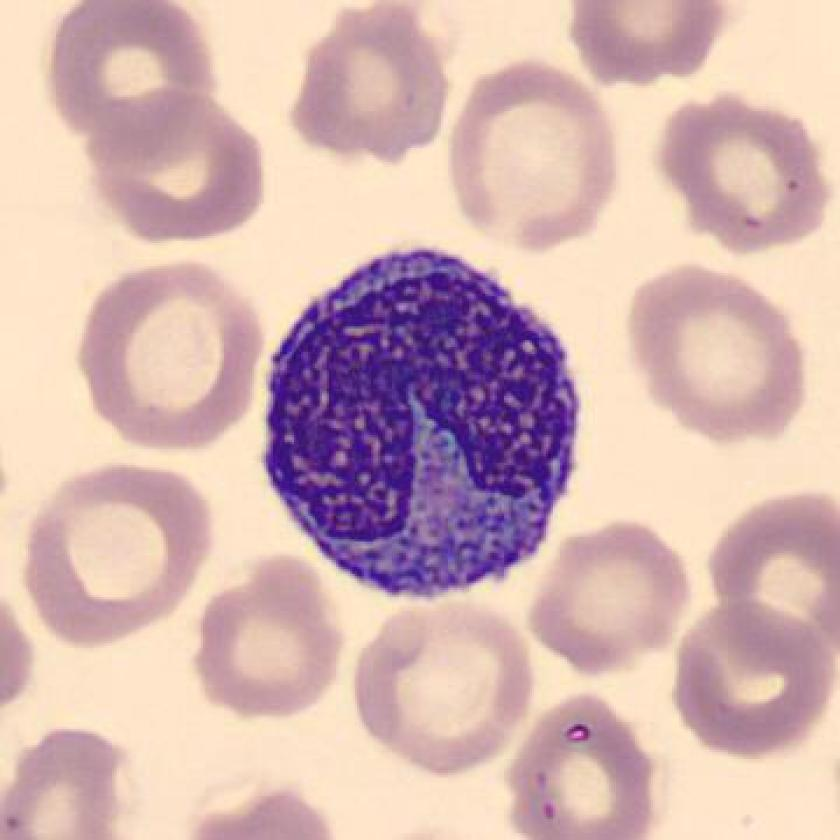monocyte: (249, 228, 599, 617)
